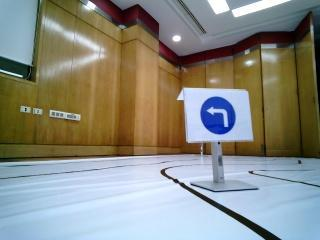left: (186, 92, 249, 142)
